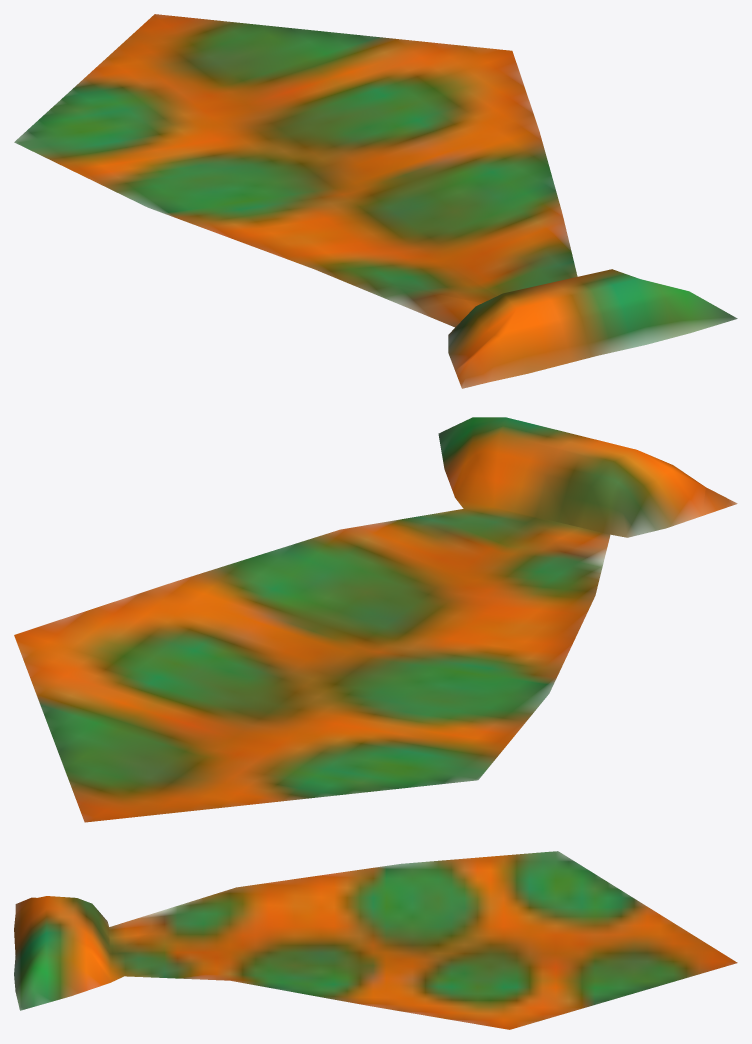
The model's file is half-windsor.glb.
3 views of the same model, one above another, from view 1: azimuth 30°, elevation 25°; view 2: azimuth 150°, elevation 25°; view 3: azimuth 270°, elevation 25° (orthographic). The views are drawn at different scales.
Visible parts, largest first — view 1: half-windsor; view 2: half-windsor; view 3: half-windsor.
Part boxes in pixels (x1,y1,x2,y2): half-windsor: (14,14,737,388); half-windsor: (14,417,737,822); half-windsor: (14,851,737,1029).
Bounding box in the file's own units: 0.2027 × 0.0195 × 0.3468.
1 material, 1 textured.
